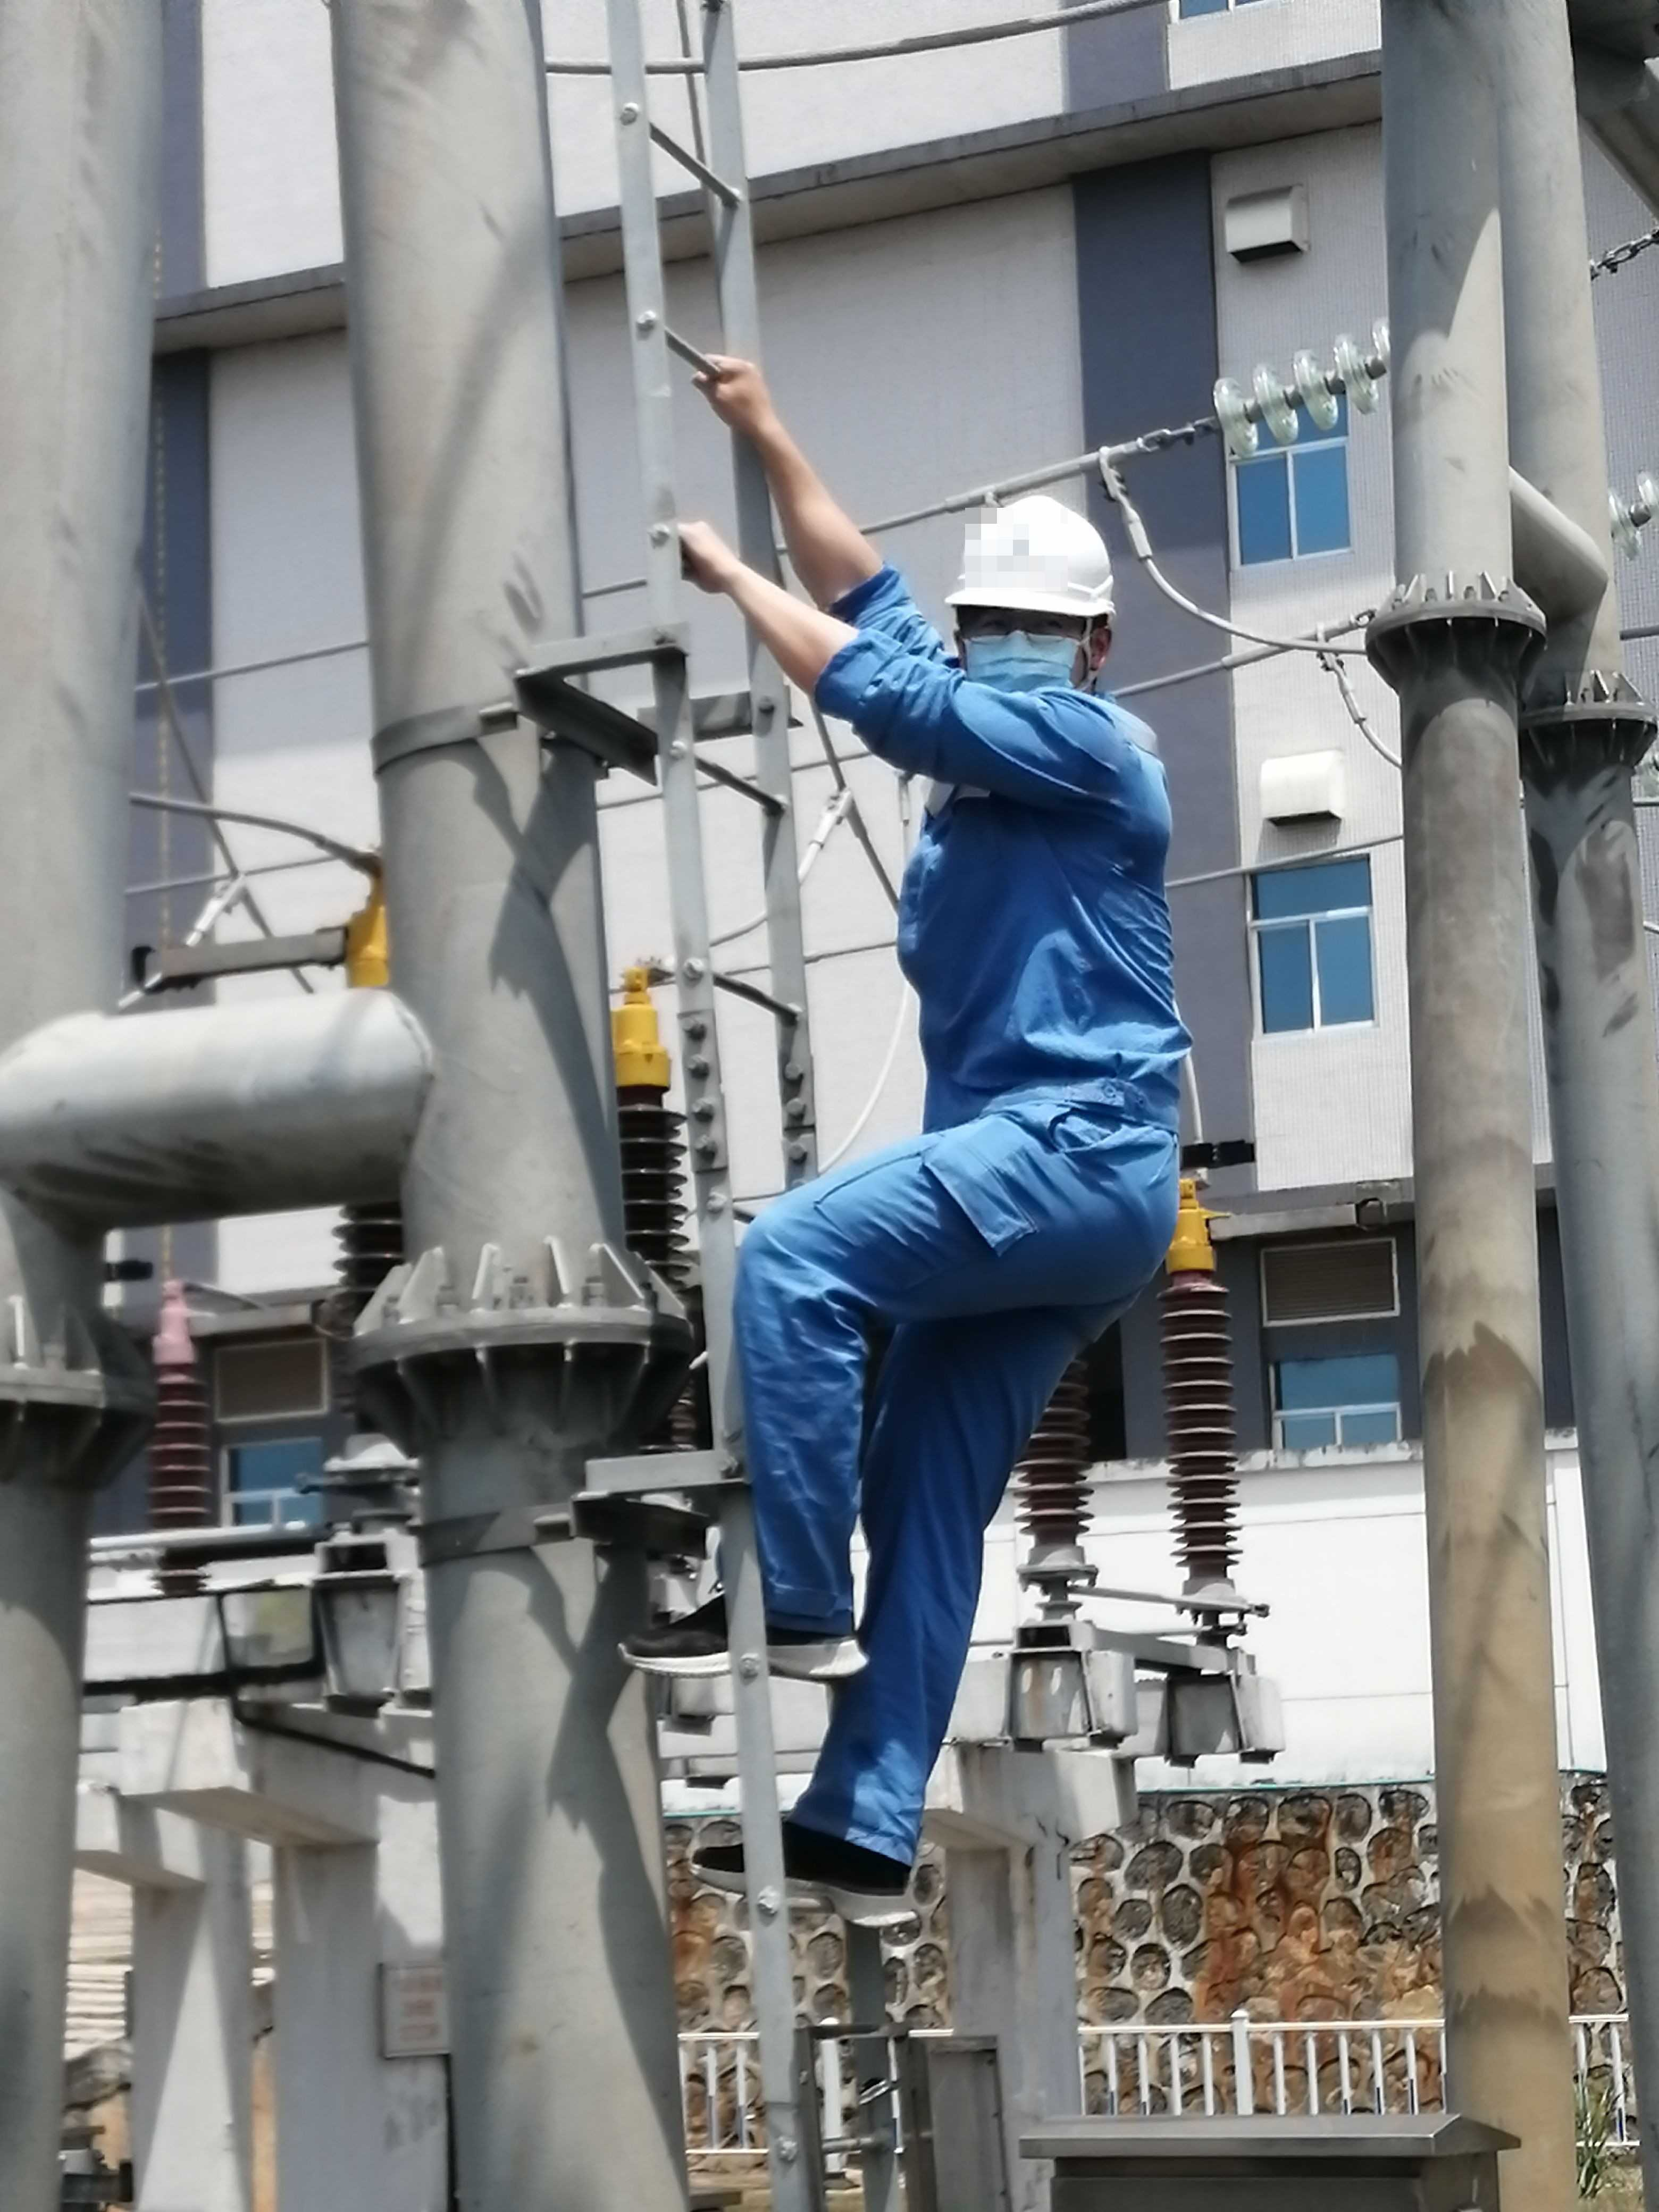downsuit: (713, 1113, 1183, 1848)
upsuit: (829, 629, 1204, 1130)
wrongtop: (704, 350, 922, 674)
